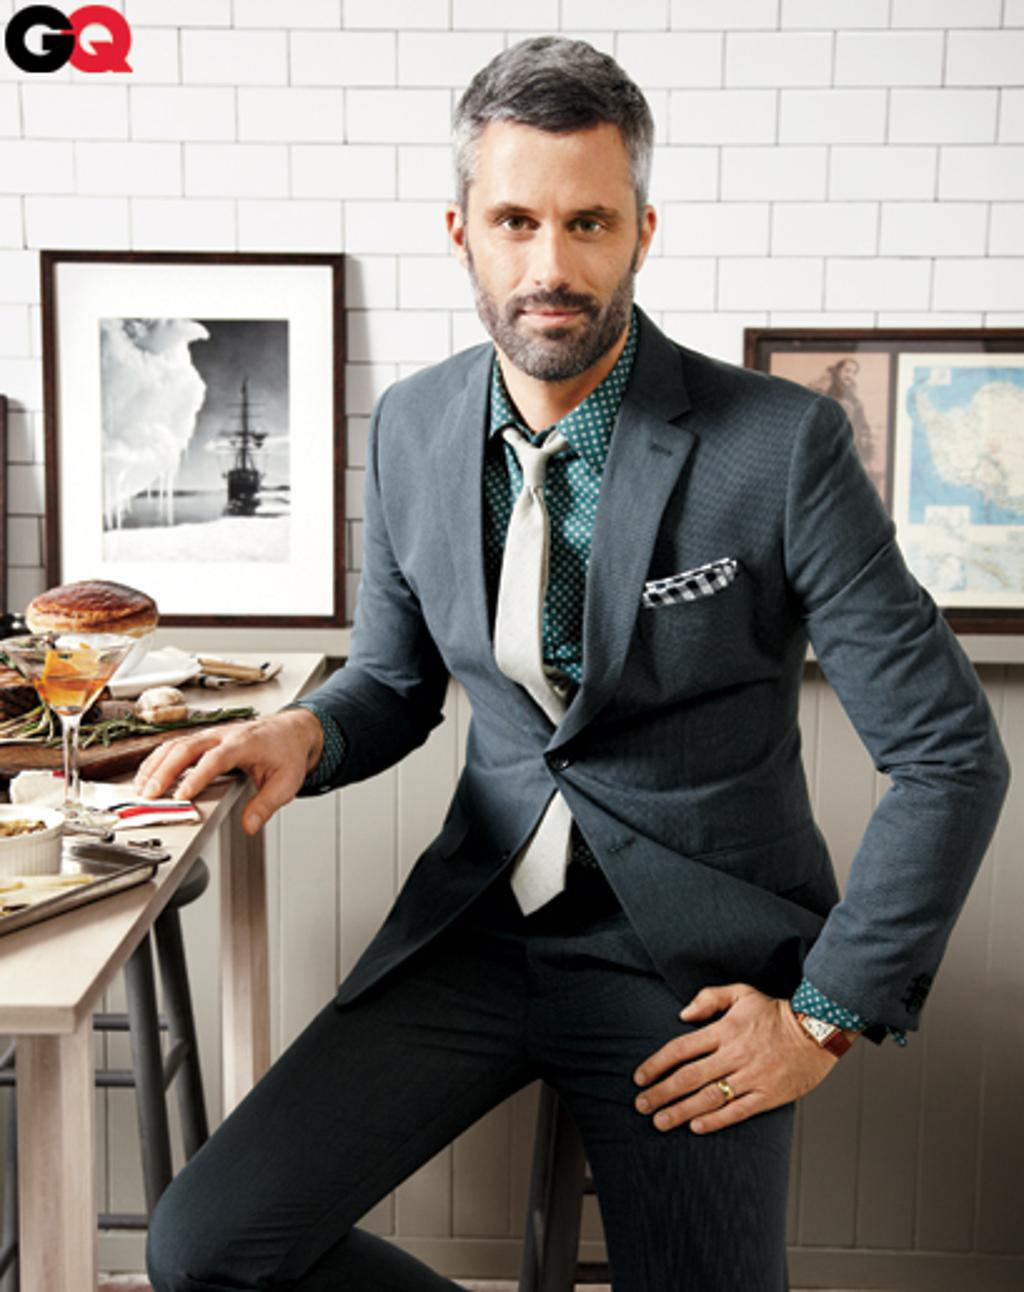face: (467, 121, 649, 373)
